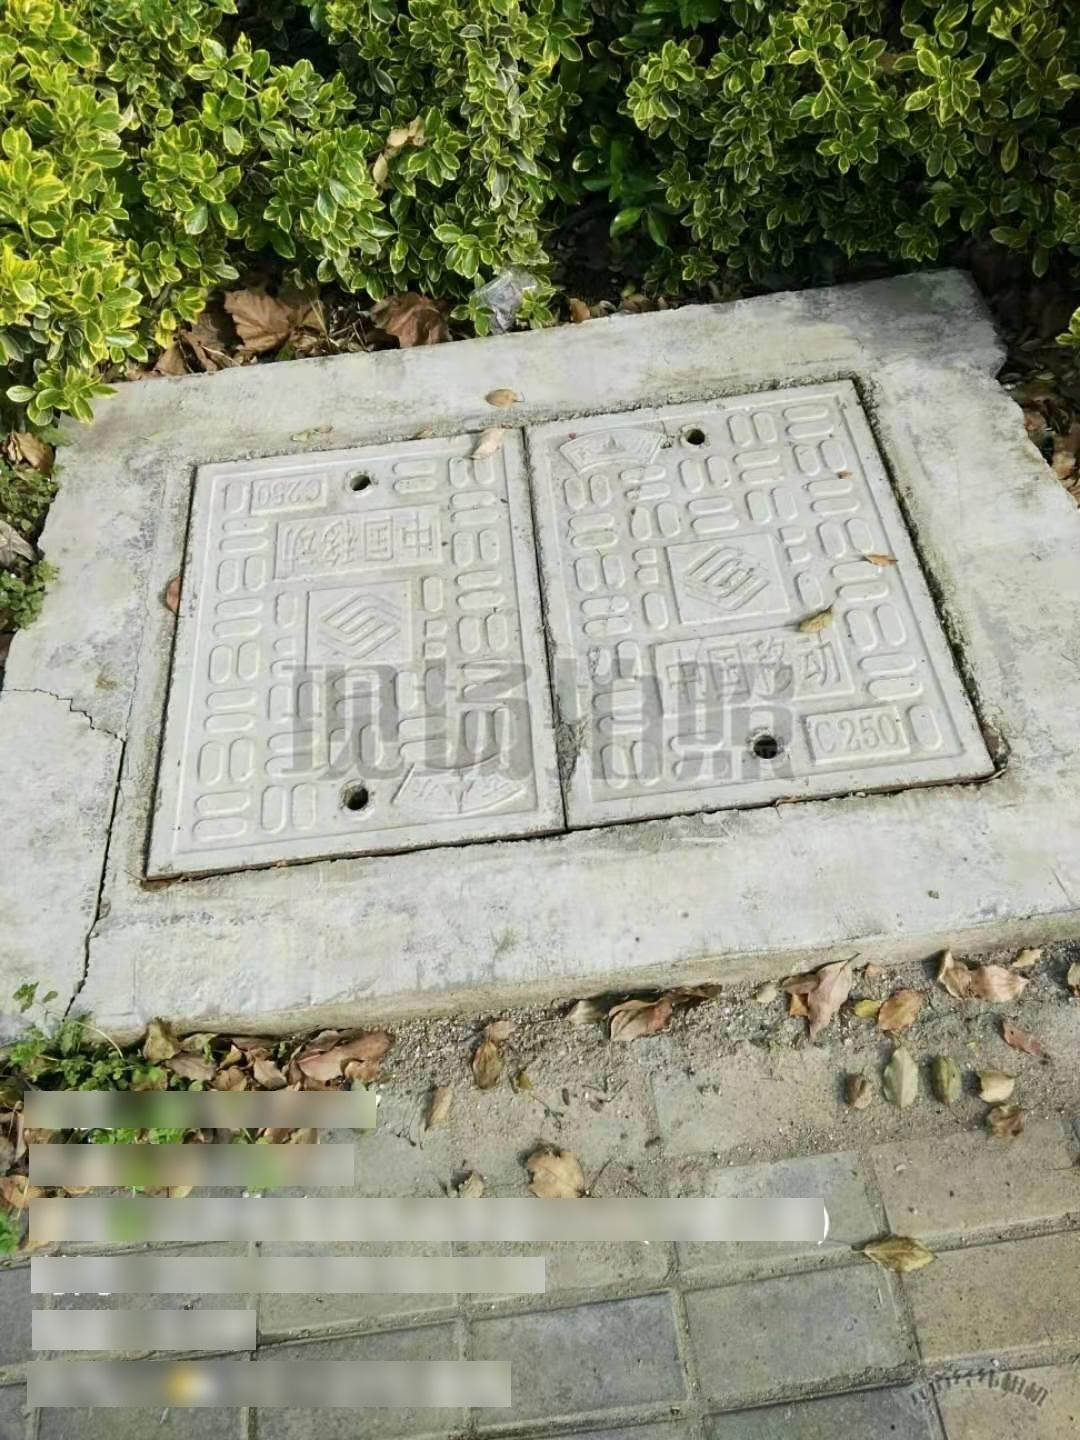wellcover: (0, 238, 1080, 1037)
